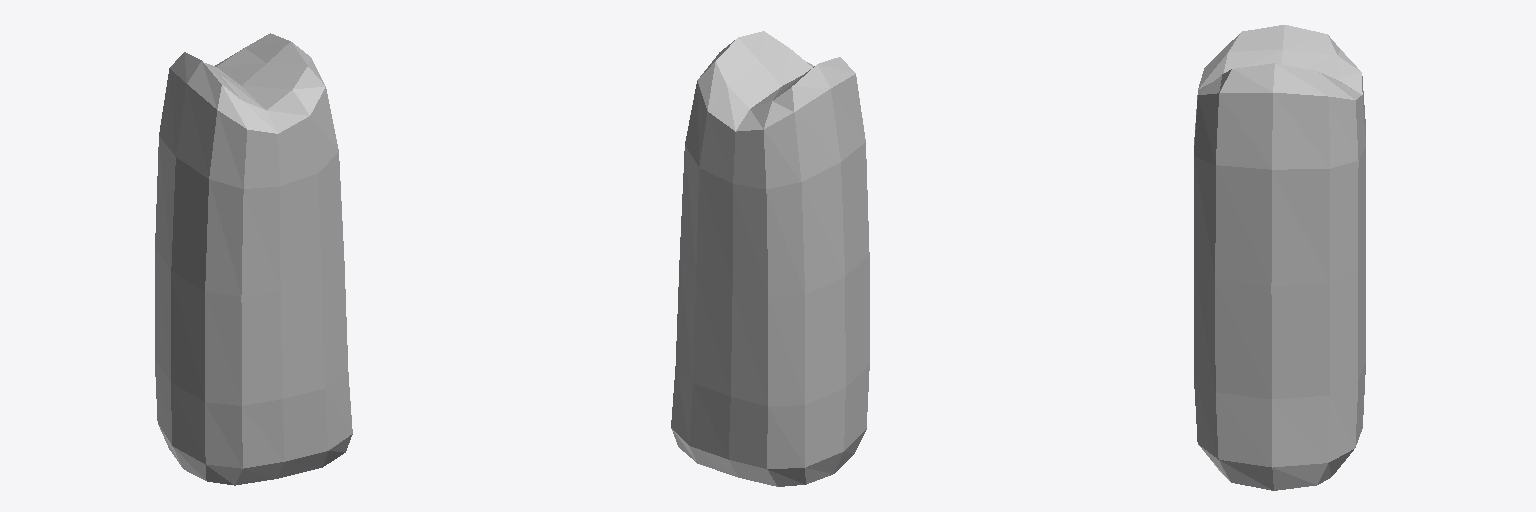
File: Porco-pataDE.obj
3 renders of one model, left to right at view 1: azimuth 30°, elevation 25°; view 2: azimuth 150°, elevation 25°; view 3: azimuth 270°, elevation 25°, orthographic.
Parts seen in each view (by area): view 1: Porco-pataDE_Cubo.008; view 2: Porco-pataDE_Cubo.008; view 3: Porco-pataDE_Cubo.008.
Boxes of the visible parts, box(x1,y1,x2,y2) form: Porco-pataDE_Cubo.008: box(155, 33, 352, 485); Porco-pataDE_Cubo.008: box(671, 31, 869, 486); Porco-pataDE_Cubo.008: box(1194, 25, 1365, 490).
Size of the model in its own units: 0.5769 by 1.41 by 0.5294.